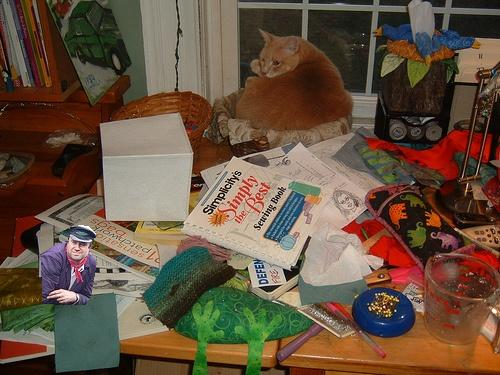tampered: (41, 226, 96, 305)
